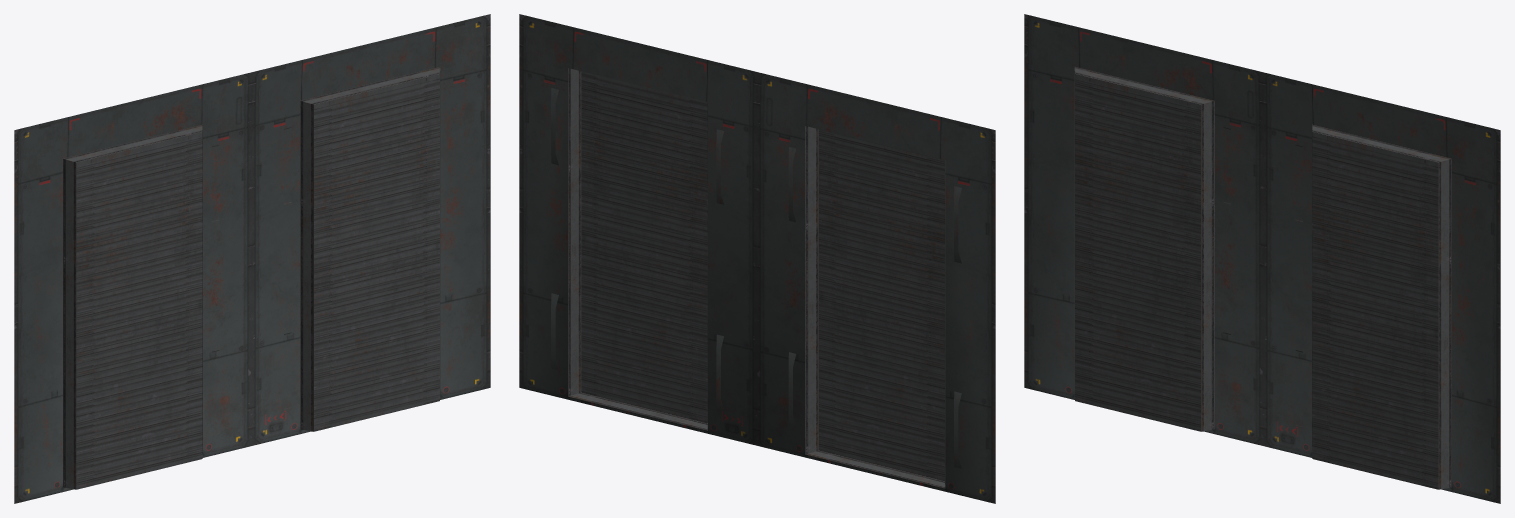
Rendered from ARC0910117.fbx.
3 renders of one model, left to right at view 1: azimuth 30°, elevation 25°; view 2: azimuth 150°, elevation 25°; view 3: azimuth 330°, elevation 25°, orthographic.
Visible parts, largest first — view 1: smARC0910117; view 2: smARC0910117; view 3: smARC0910117.
Part boxes in pixels (x1,y1,x2,y2): smARC0910117: (14,14,490,503); smARC0910117: (519,14,995,503); smARC0910117: (1024,14,1500,503).
Size of the model in its own units: 400 by 300 by 12.27.
1 material, 1 textured.
